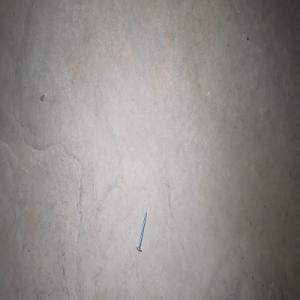Bolt: (135, 211, 147, 251)
